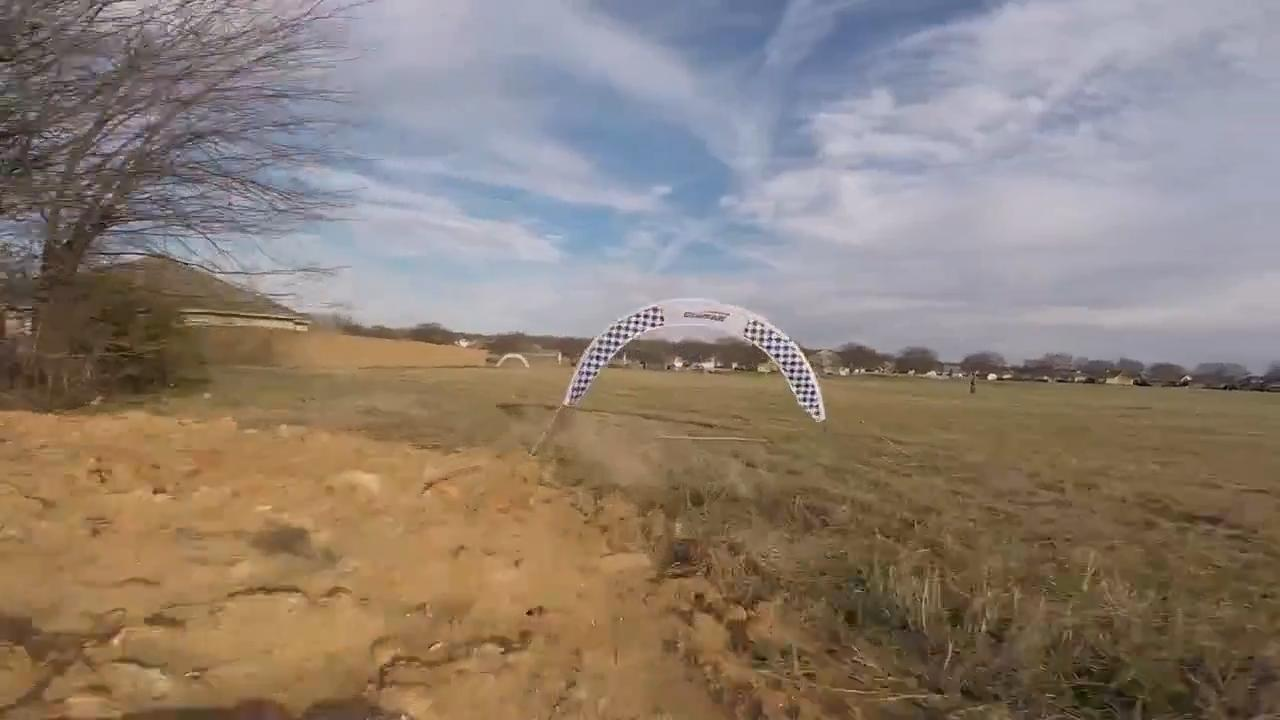gate: (560, 296, 827, 425)
